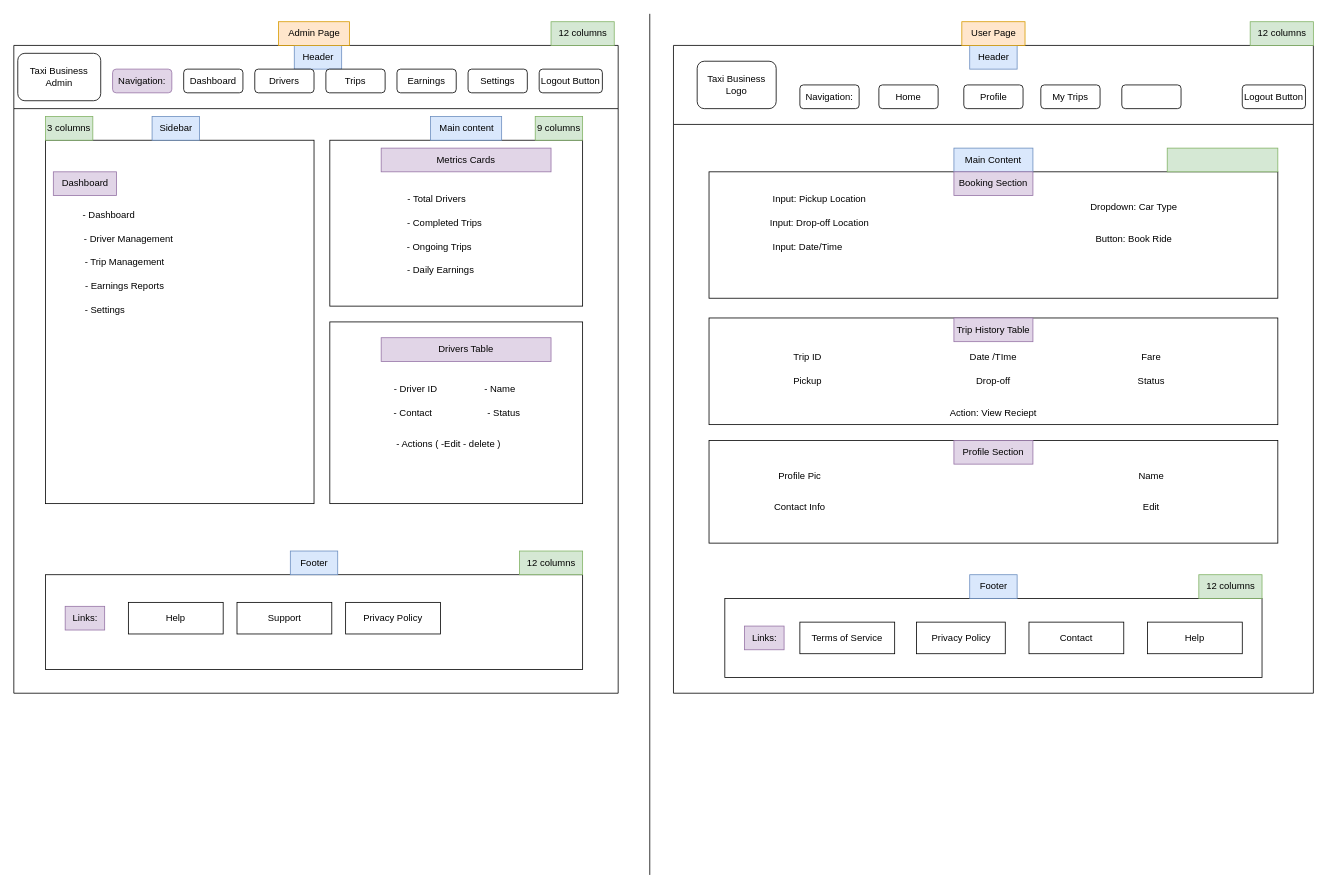
Image size: 1327x890. Some labels were removed from this diagram. Each missing label, with the centre of its shape:
8 columns (centered): the point at 1222,159
Contact Us: the point at 1151,96
